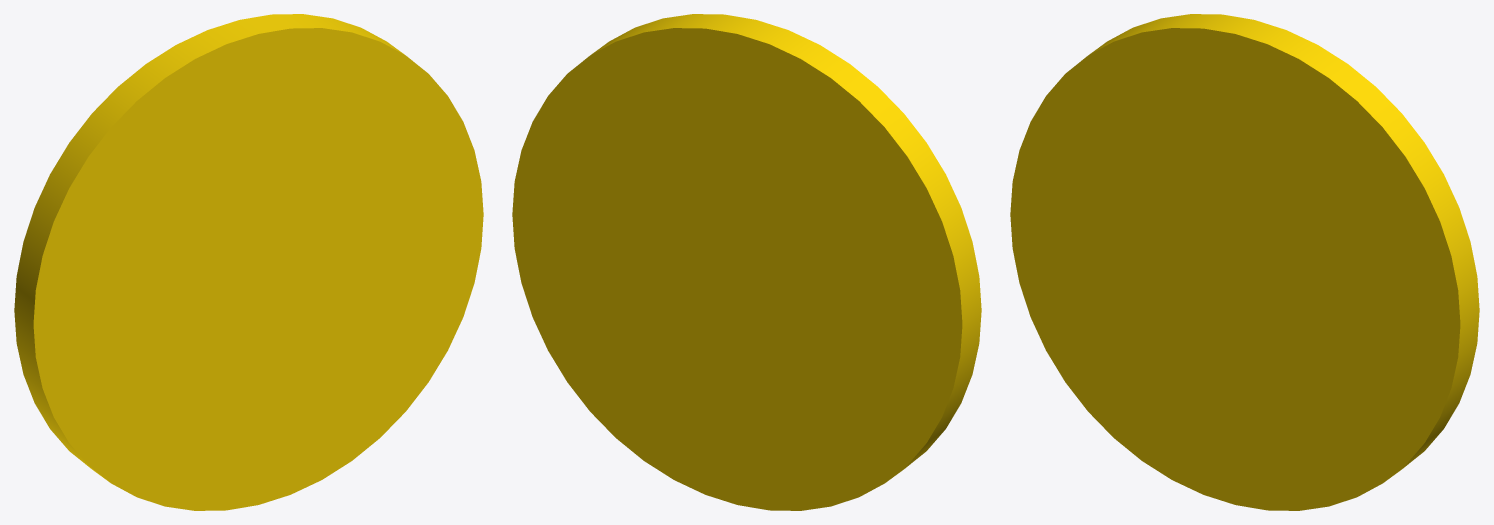
The model's file is bitcoin.glb.
3 views of the same model, side by side, from view 1: azimuth 30°, elevation 25°; view 2: azimuth 150°, elevation 25°; view 3: azimuth 330°, elevation 25° (orthographic).
Visible parts, largest first — view 1: Cylinder002; view 2: Cylinder002; view 3: Cylinder002.
Boxes of the visible parts, x1=… form: Cylinder002: x1=14, y1=14, x2=483, y2=510; Cylinder002: x1=512, y1=14, x2=981, y2=510; Cylinder002: x1=1010, y1=14, x2=1479, y2=510.
Bounding box in the file's own units: 70.77 × 70.77 × 5.22.
Materials: 1 (1 with a texture image).
